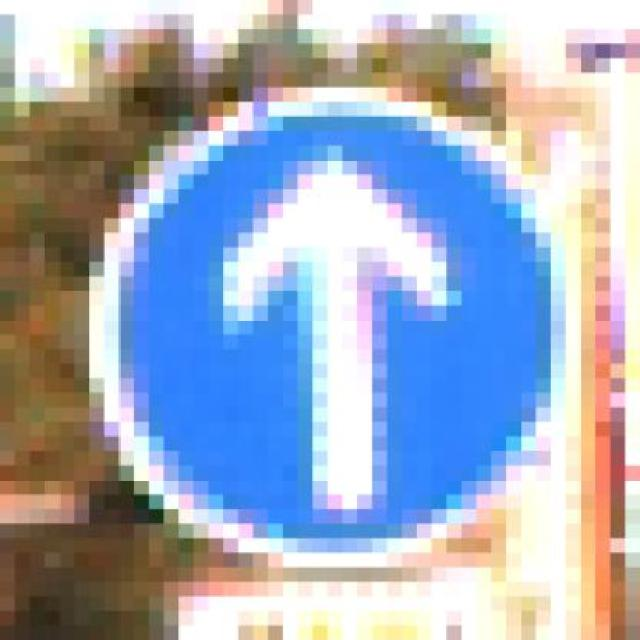Straight Ahead Only: (74, 87, 566, 567)
